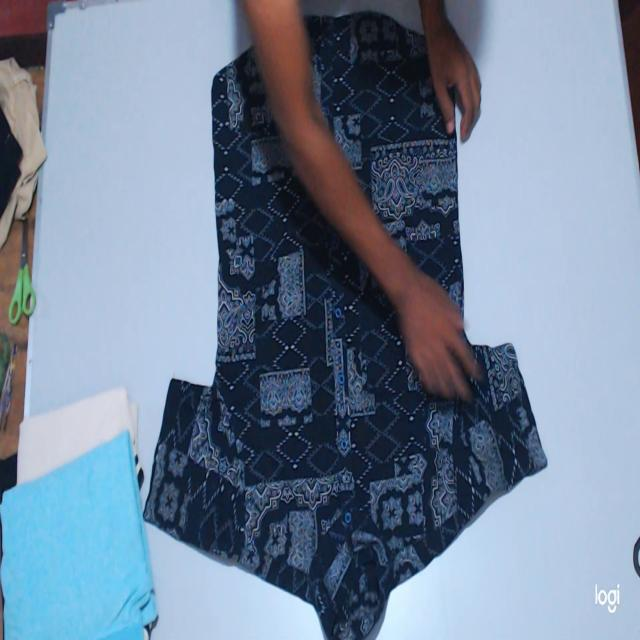new-garment: (145, 47, 546, 639), (302, 12, 463, 323)
